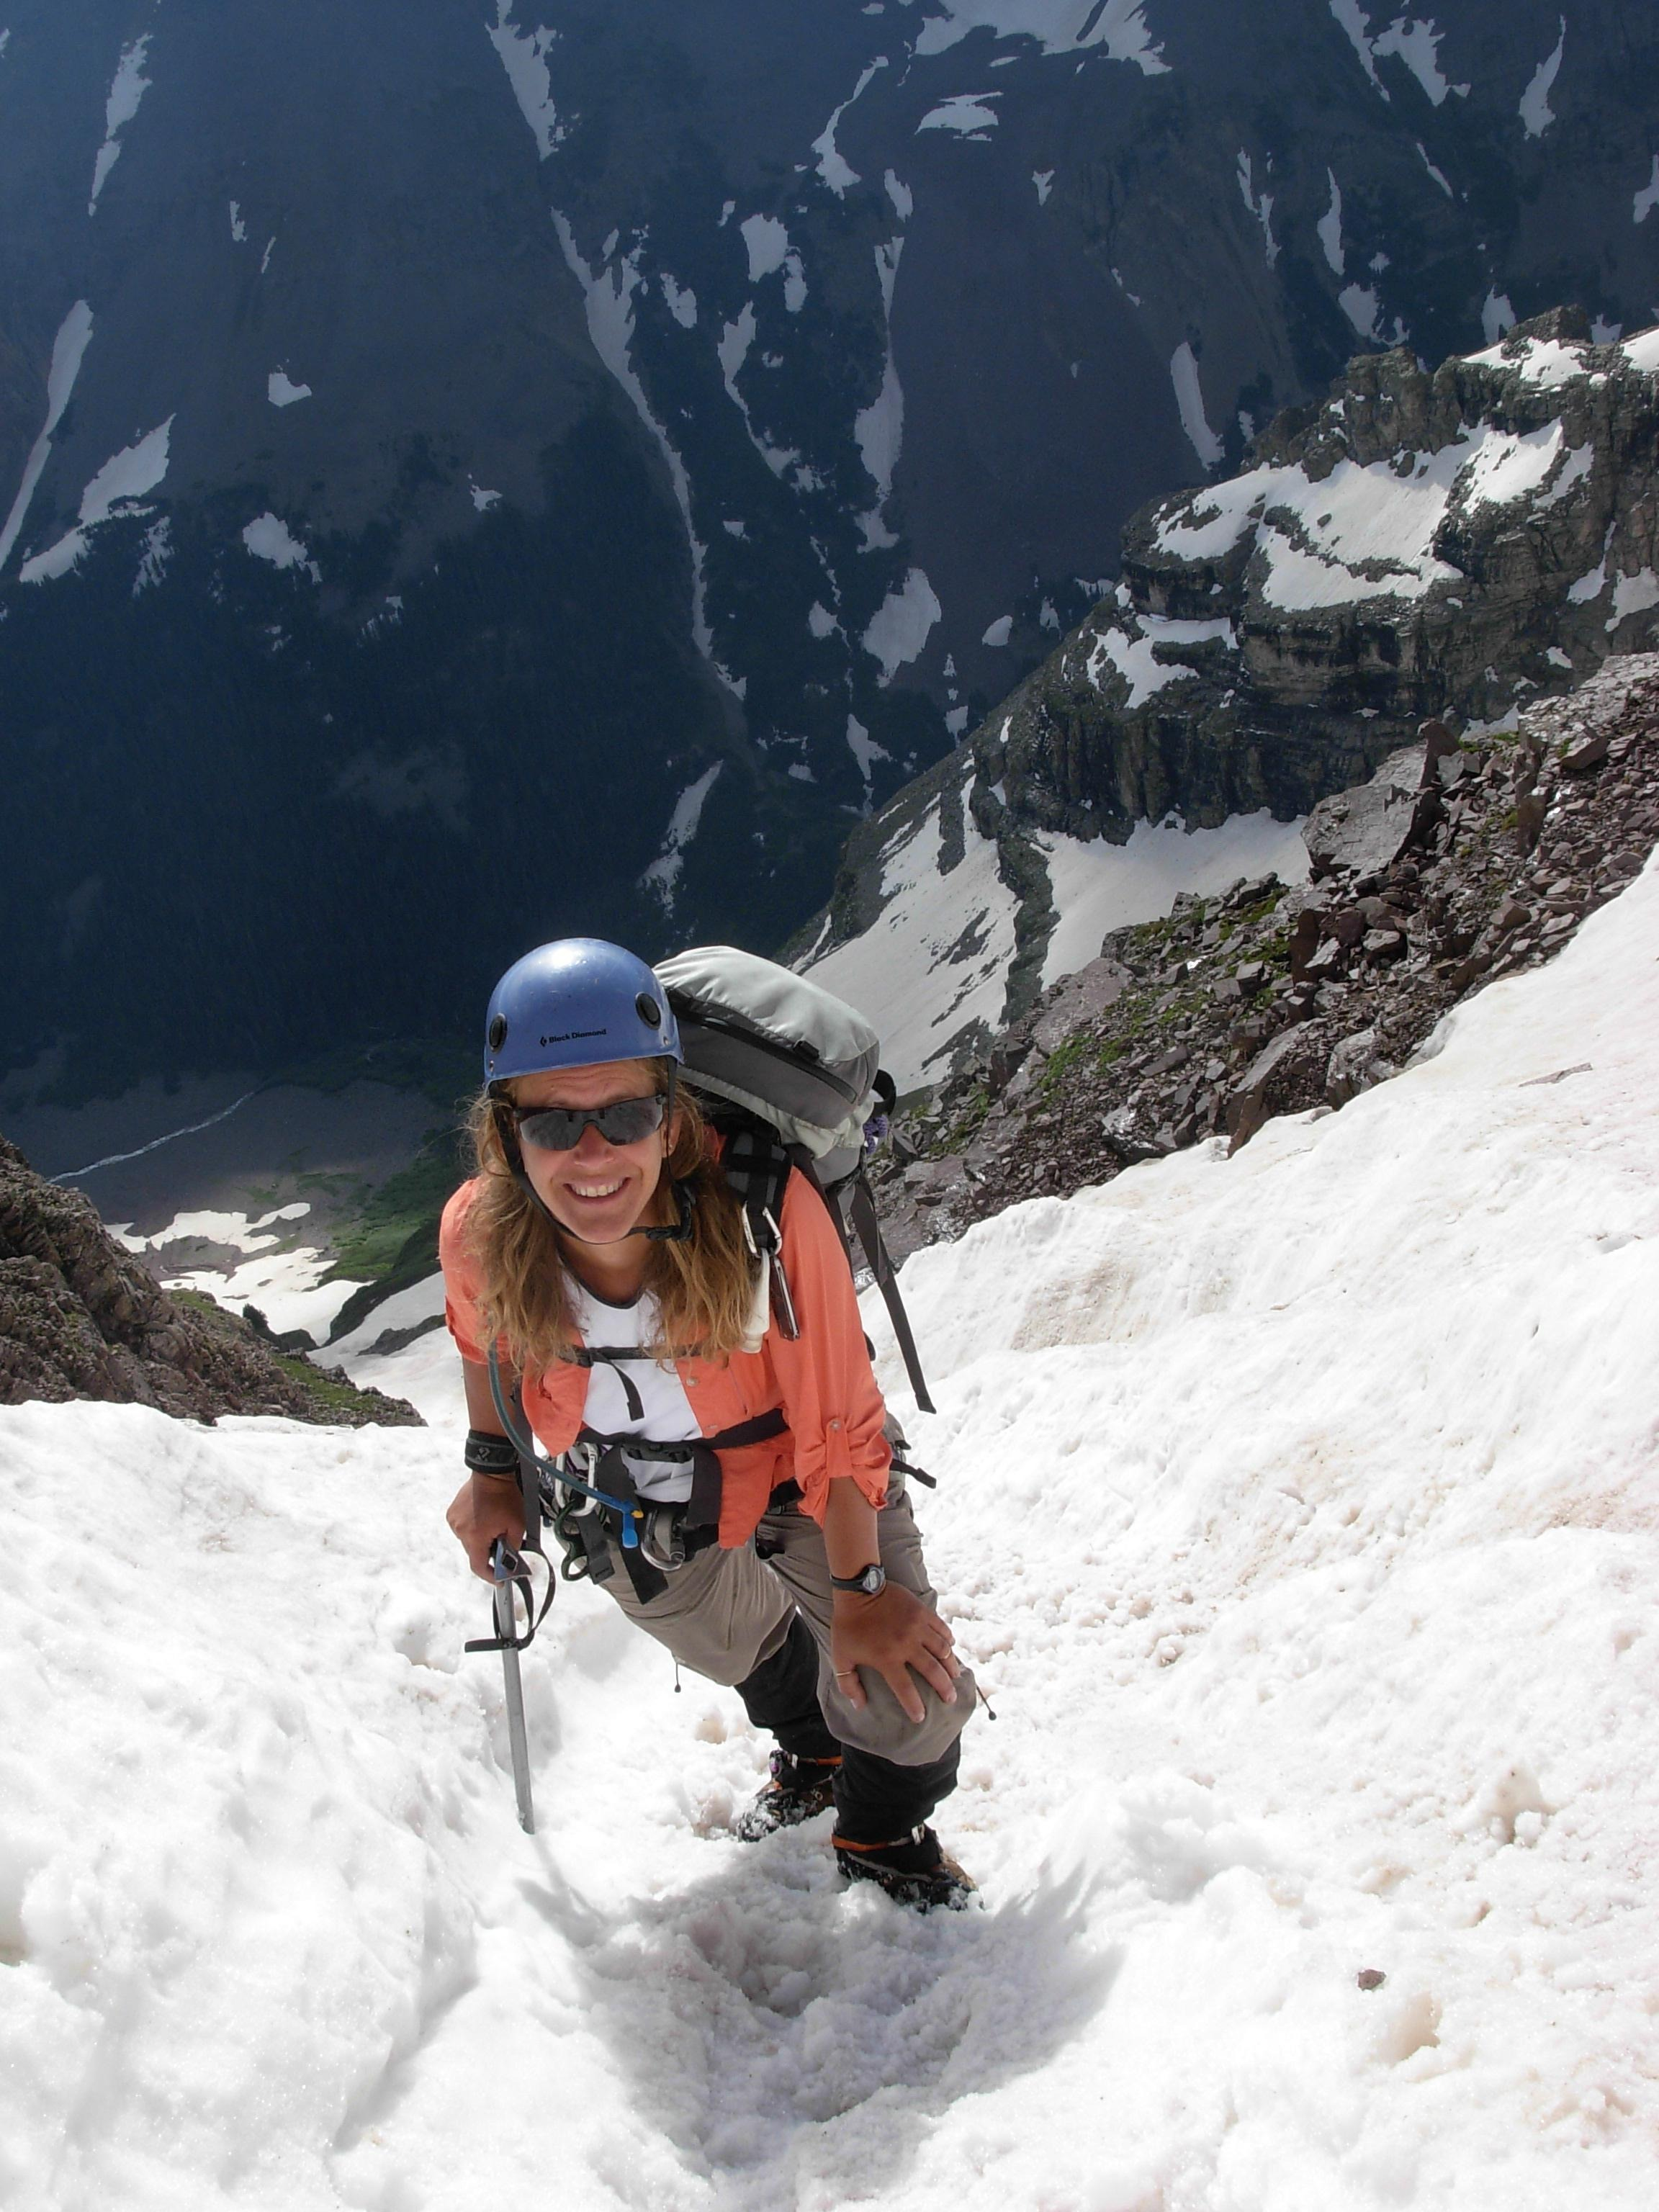helmet: (469, 927, 692, 1101)
